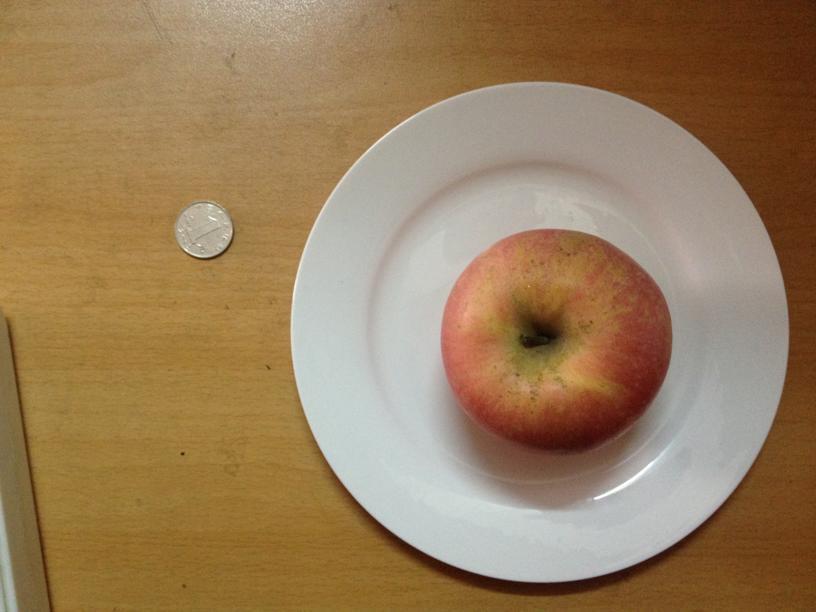apple: (439, 225, 674, 453)
coin: (174, 199, 235, 259)
